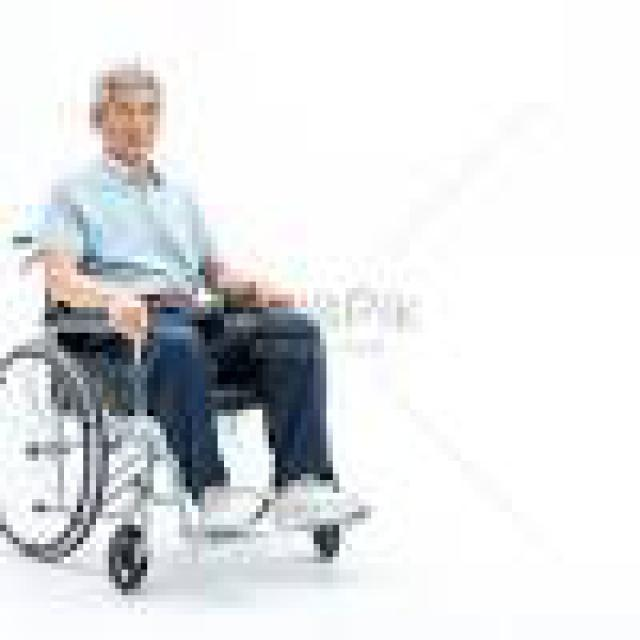wheelchairs: (0, 230, 359, 596)
